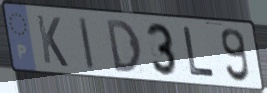3: (144, 20, 179, 78)
9: (220, 26, 251, 84)
D: (104, 18, 144, 75)
I: (77, 15, 96, 73)
K: (34, 13, 70, 70)
L: (181, 25, 217, 80)
